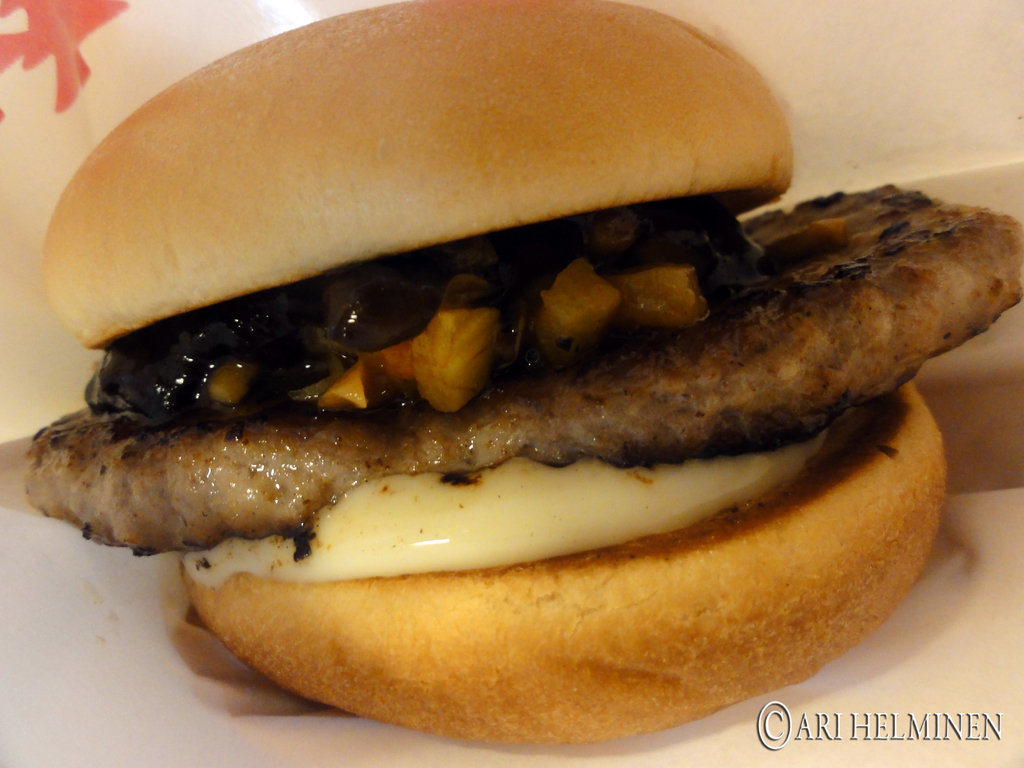Hamburger: (26, 0, 1023, 749)
